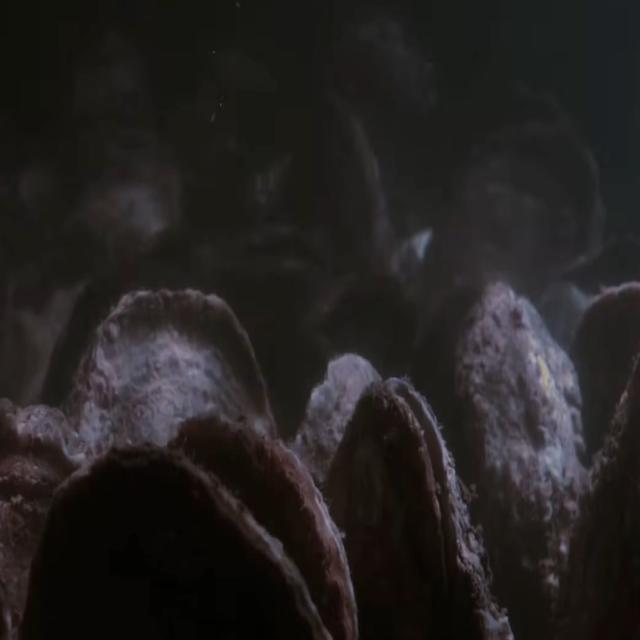Oyster-Closed: (26, 444, 333, 640), (164, 411, 357, 640), (0, 396, 96, 640)
Oyster-Indeterminate: (55, 288, 278, 640), (437, 279, 593, 640), (414, 116, 606, 343), (287, 352, 385, 640), (290, 83, 407, 286), (55, 132, 187, 270), (566, 281, 640, 470)
Oyster-Open: (322, 373, 511, 640), (217, 217, 330, 294)
